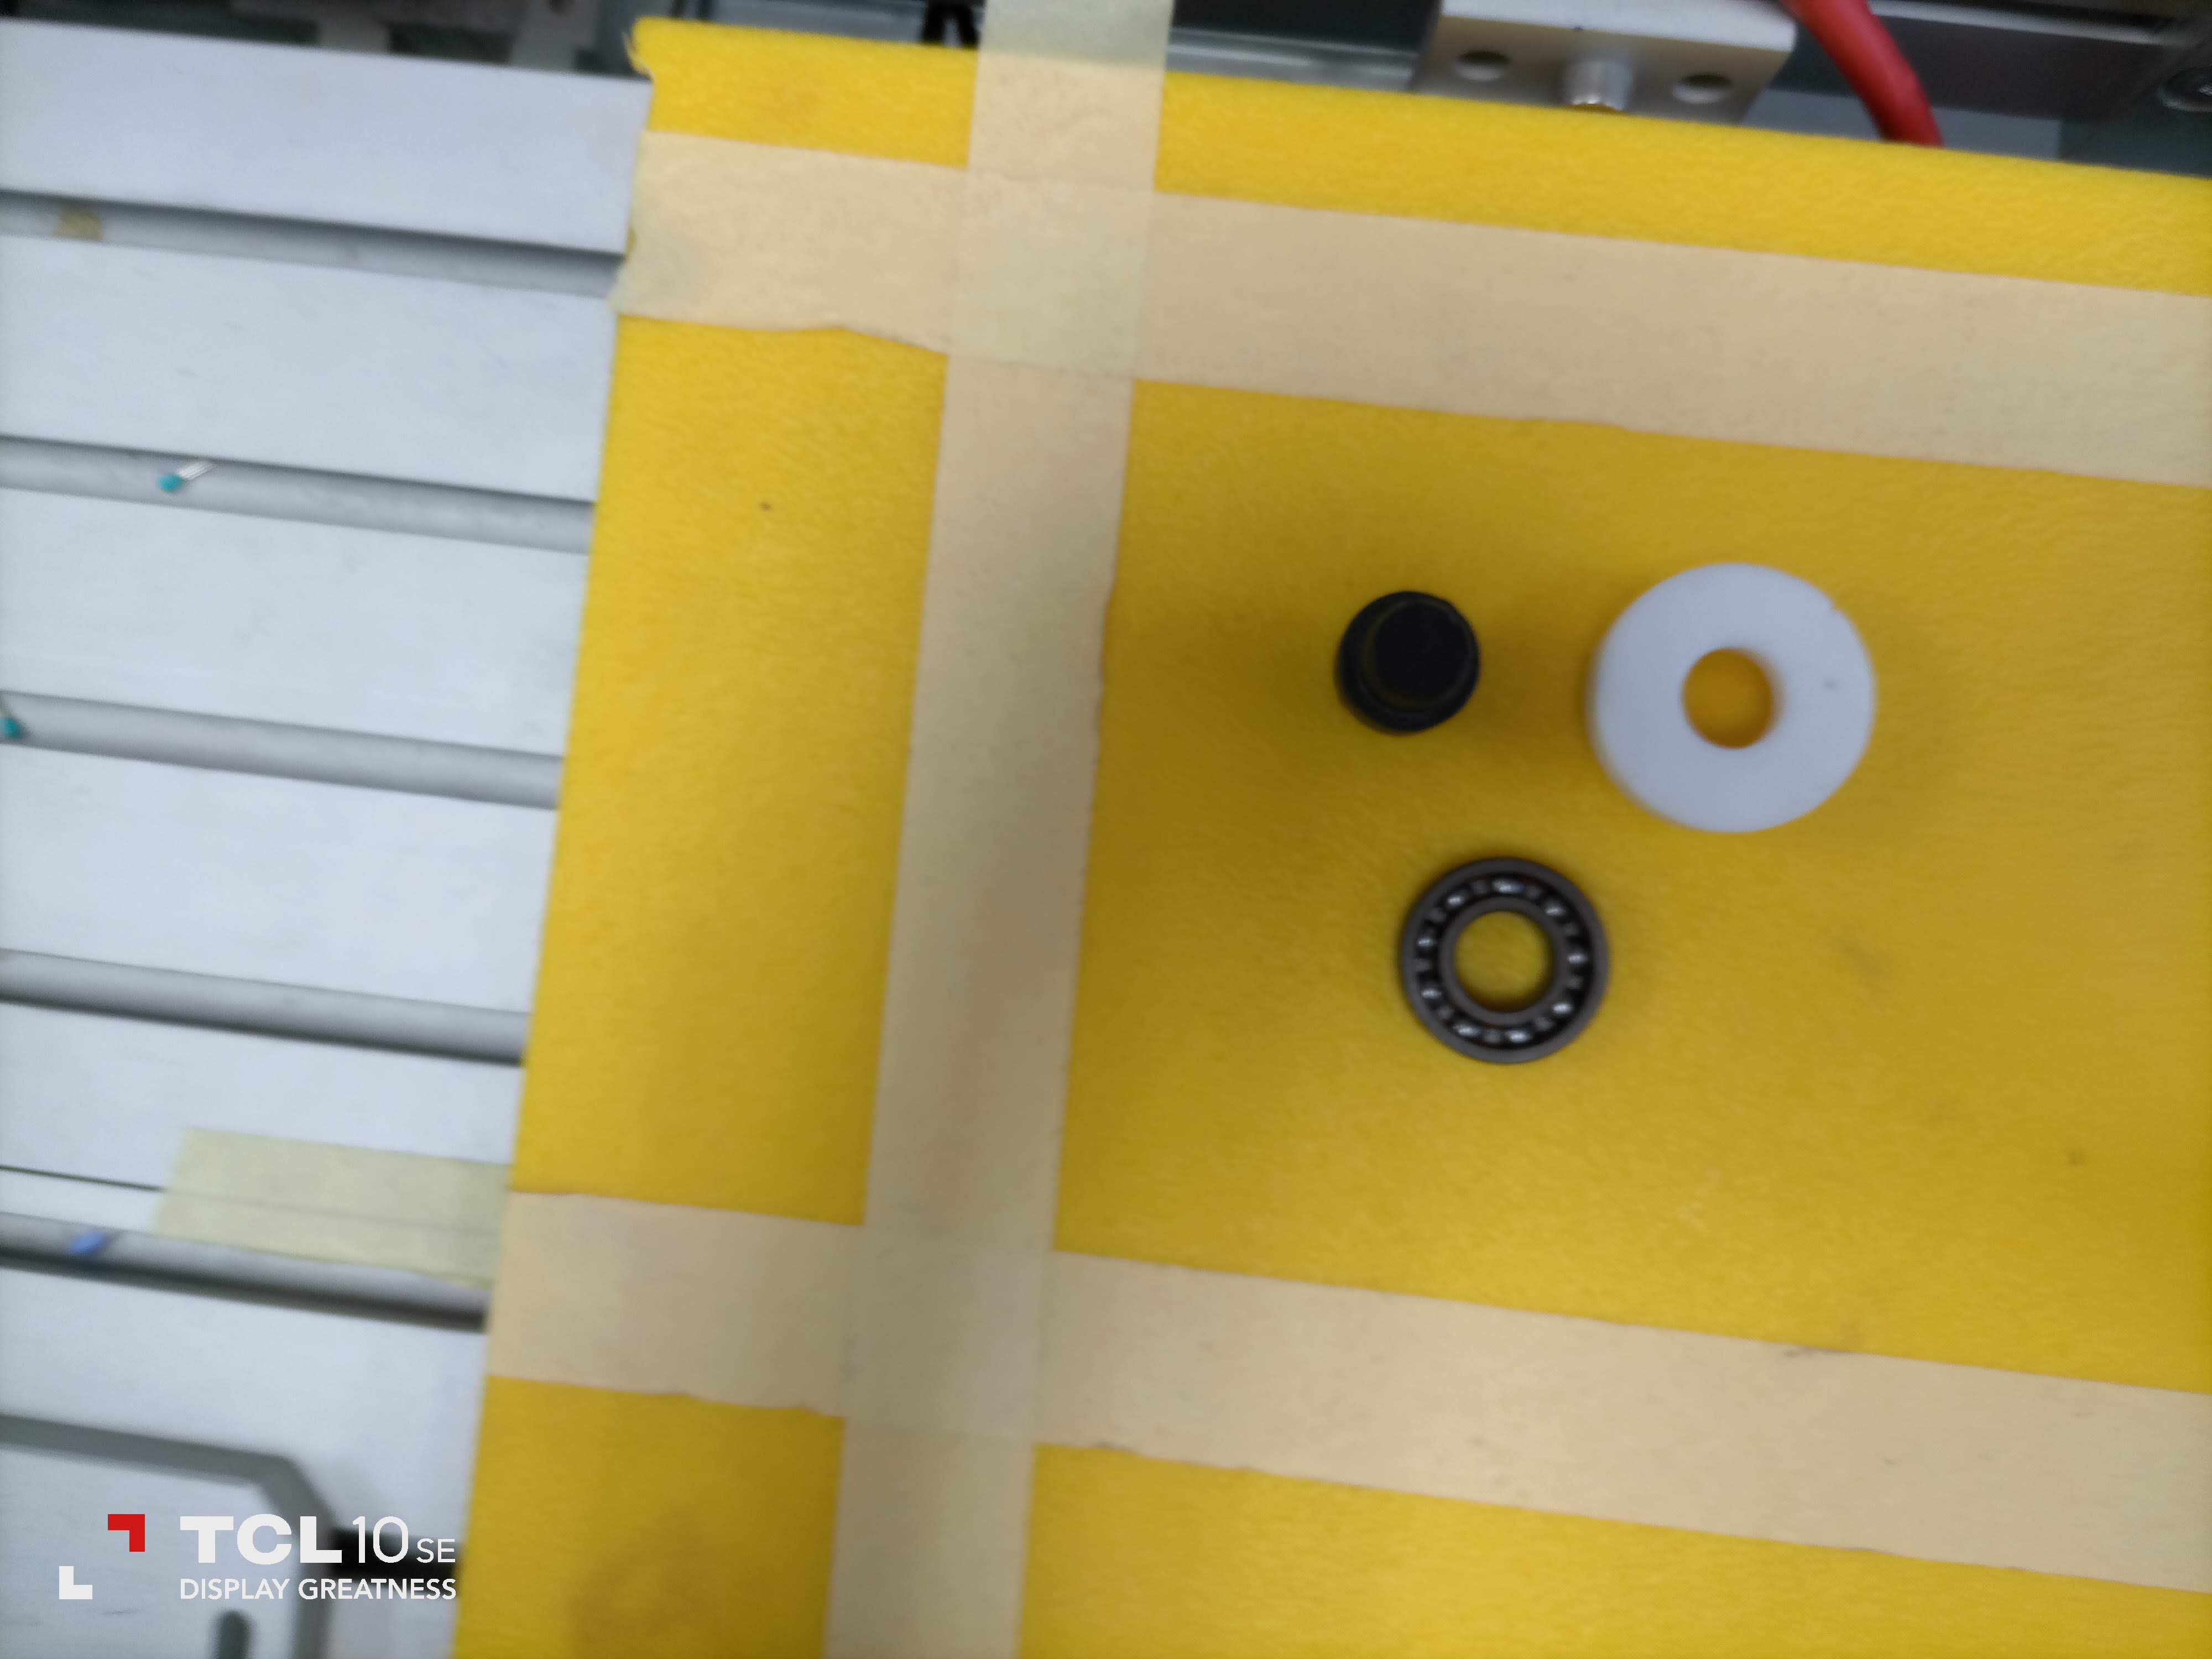Ardatza: (1332, 579, 1482, 741)
Roda: (1393, 857, 1632, 1070)
Tapa: (1585, 565, 1892, 826)
